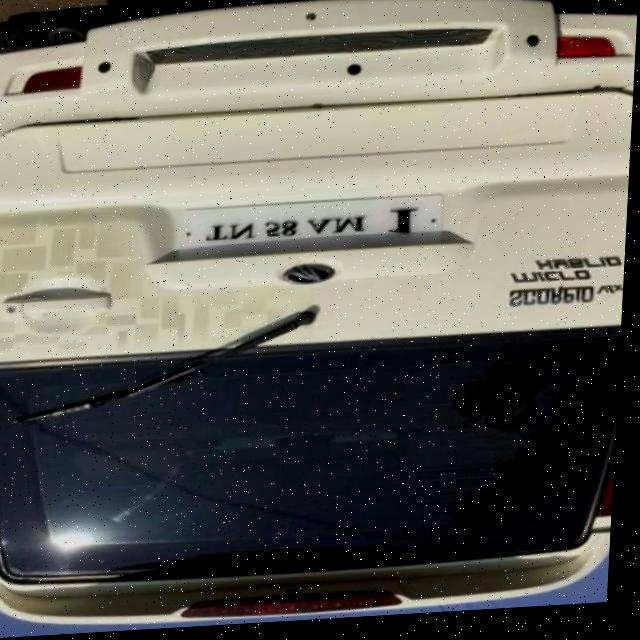plate: (176, 199, 447, 255)
